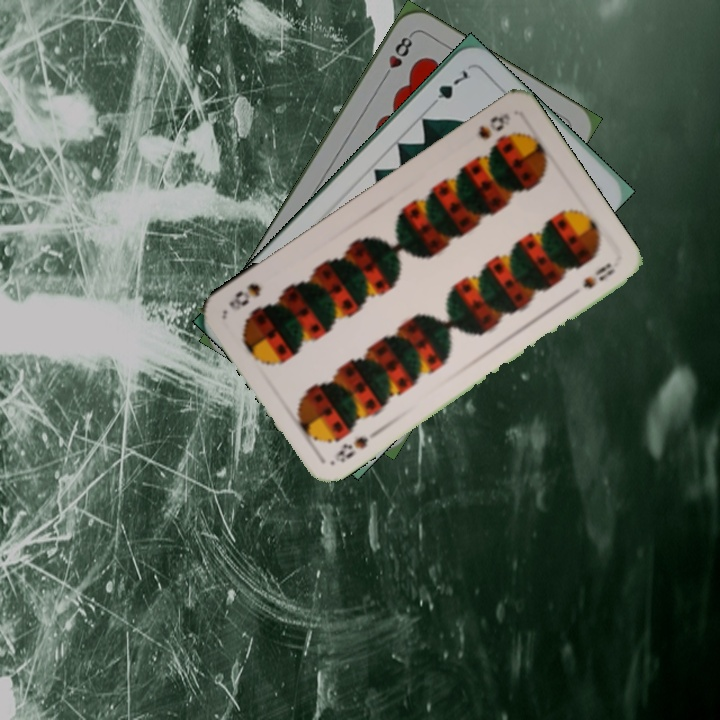G7: (425, 65, 471, 111)
H8: (378, 30, 415, 84)
S8: (330, 432, 371, 465), (474, 109, 513, 142)
